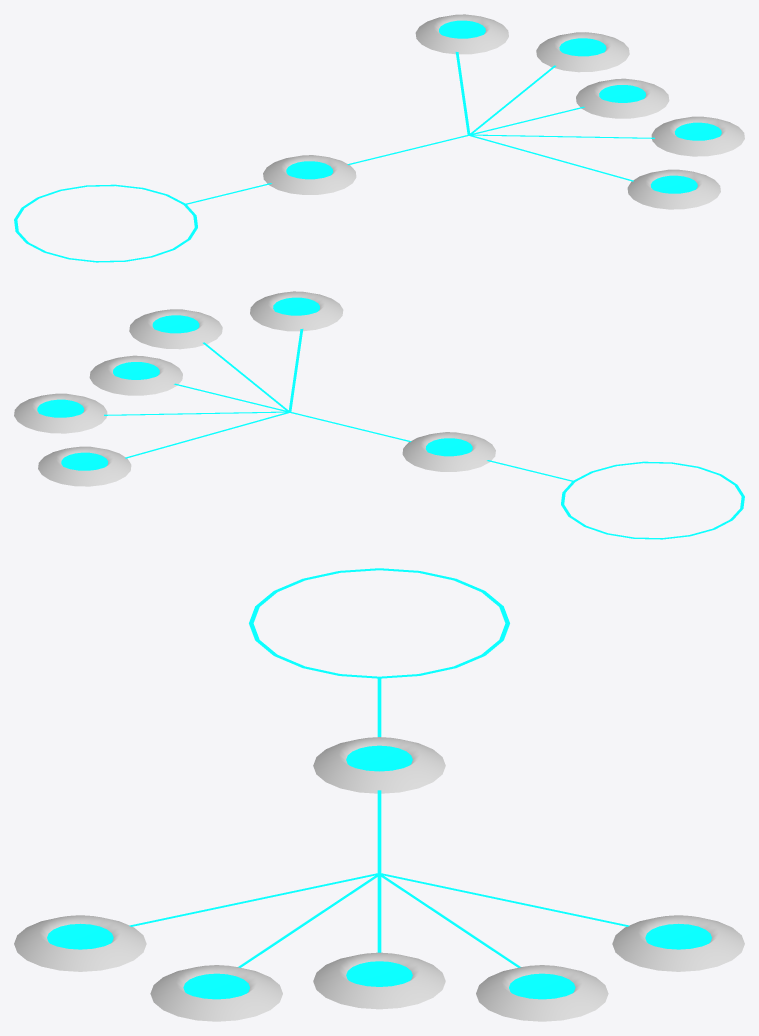
The model's file is Bridge_Floor_Detail_Mesh.fbx.
The picture shows the model from 3 angles, top to bottom: view 1: azimuth 30°, elevation 25°; view 2: azimuth 150°, elevation 25°; view 3: azimuth 270°, elevation 25°; orthographic projection. The views are drawn at different scales.
Parts seen in each view (by area): view 1: Bridge_Floor_Detail_Mesh; view 2: Bridge_Floor_Detail_Mesh; view 3: Bridge_Floor_Detail_Mesh.
Part boxes in pixels (x1,y1,x2,y2): Bridge_Floor_Detail_Mesh: (14,14,744,262); Bridge_Floor_Detail_Mesh: (14,291,744,539); Bridge_Floor_Detail_Mesh: (14,568,744,1021).
Size of the model in its own units: 3199 by 38.07 by 2189.
